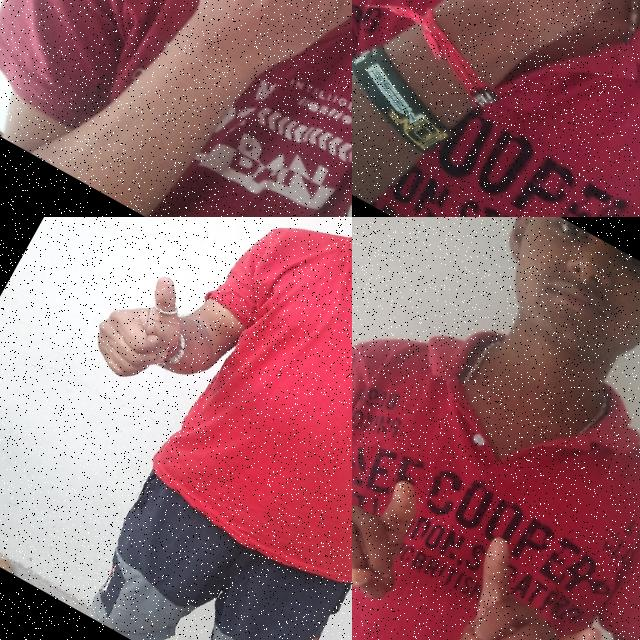Chin Flick: (379, 0, 640, 129), (131, 0, 352, 128)
Corna: (426, 528, 629, 640), (352, 430, 449, 630)
Thumbs Up: (68, 248, 214, 408)
